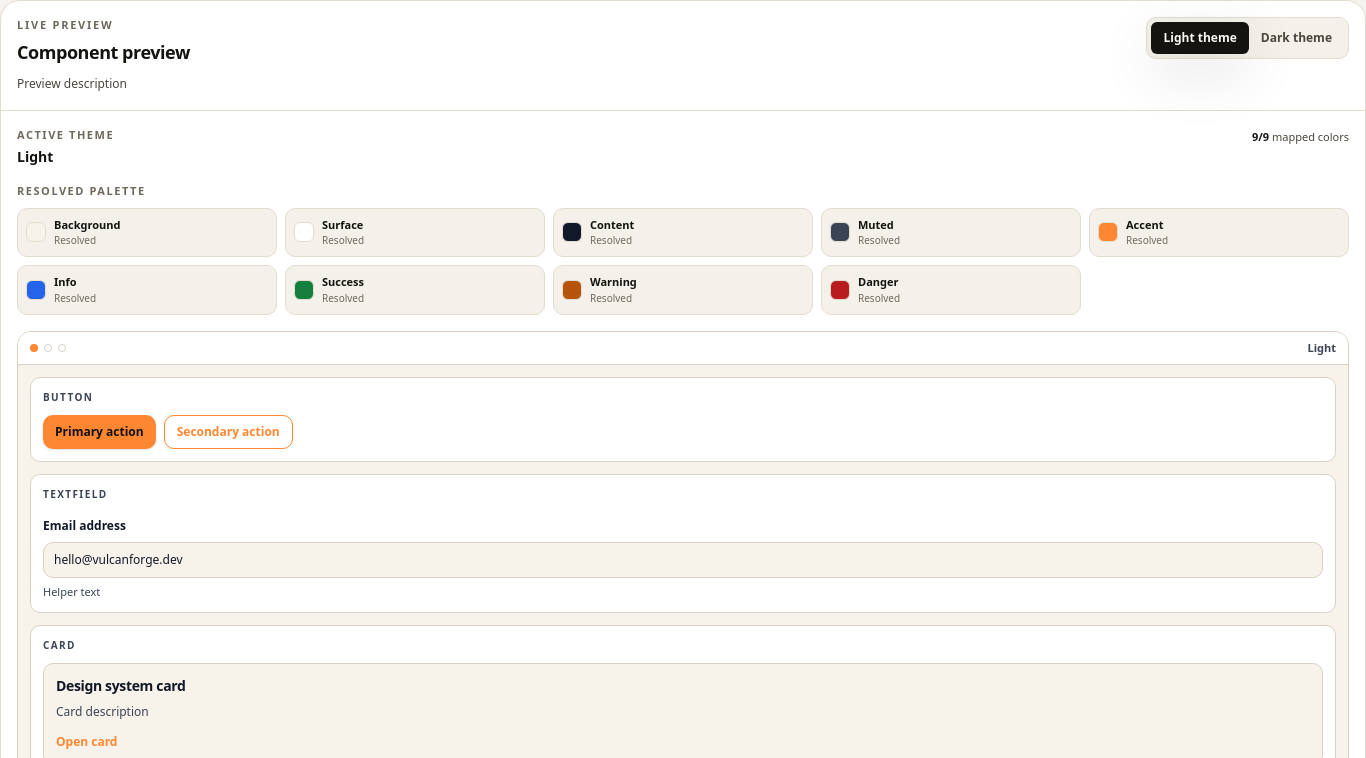
PreviewPanel › switches modes and surfaces fallback mappings
Check: the element named "Preview theme mode" is shown, box left=1146, top=17, right=1349, bottom=59
Click the button "Dark theme": [1296, 38] box left=1249, top=22, right=1344, bottom=54
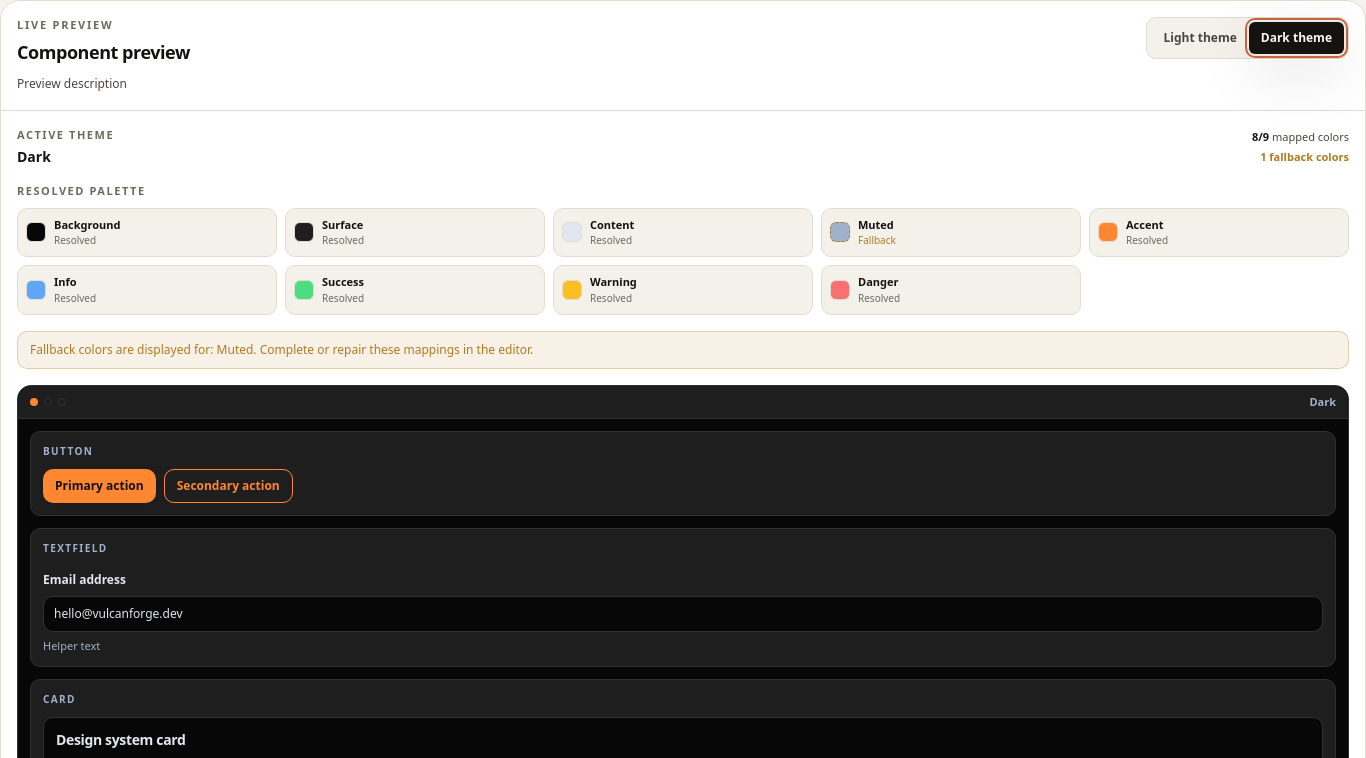
Check: the text "8/9" is shown, box left=1252, top=128, right=1269, bottom=144
Check: the text "Fallback colors are displayed for: Muted" is shown, box left=30, top=340, right=533, bottom=358
Check: the element named "Muted: #a0b1ca (Fallback)" is shown, box left=821, top=208, right=1081, bottom=257
